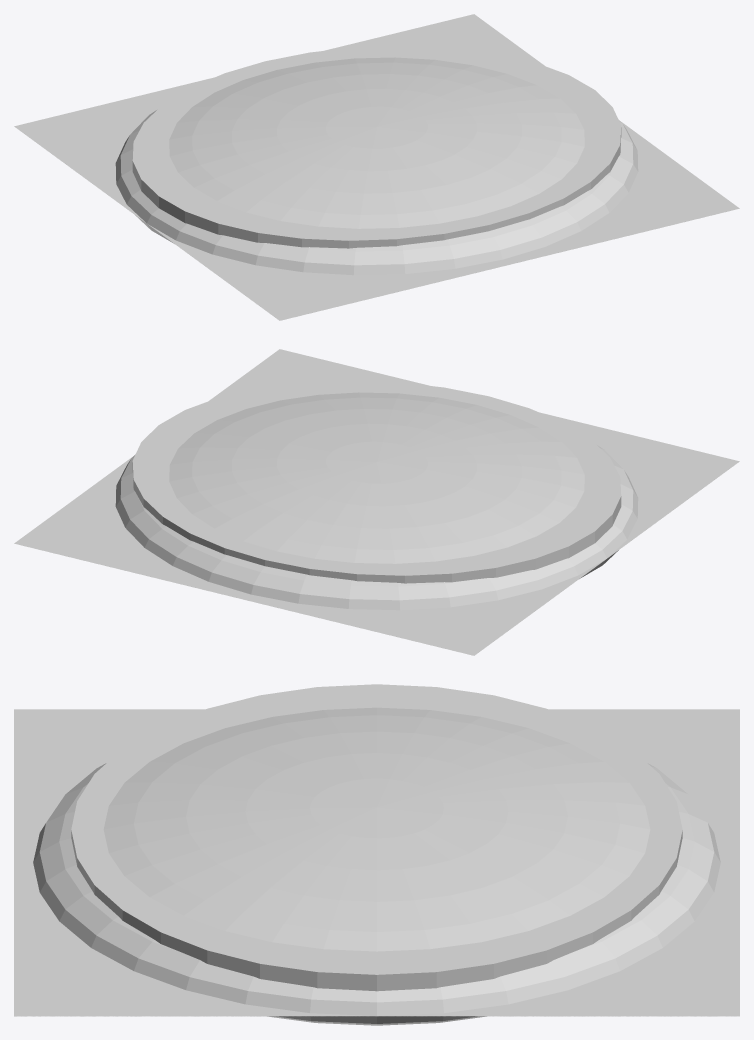
File: twoObjectForestControl_1cm4cmCone_08cm3cmCyli_6cmGrid_wn10000.dae
The picture shows the model from 3 angles, top to bottom: view 1: azimuth 30°, elevation 25°; view 2: azimuth 150°, elevation 25°; view 3: azimuth 270°, elevation 25°; orthographic projection. The views are drawn at different scales.
Visible parts, largest first — view 1: Sphere, _Plane_p_, _cylinder_pic_; view 2: Sphere, _Plane_p_, _cylinder_pic_; view 3: Sphere, _Plane_p_, _cylinder_pic_, Plane.
Part boxes in pixels (x1,y1,x2,y2): Sphere: [115, 57, 638, 275]; _Plane_p_: [14, 14, 739, 320]; _cylinder_pic_: [132, 45, 621, 248]; Sphere: [115, 392, 638, 610]; _Plane_p_: [14, 349, 739, 655]; _cylinder_pic_: [132, 380, 621, 583]; Sphere: [33, 707, 720, 1025]; _Plane_p_: [14, 709, 739, 1015]; _cylinder_pic_: [71, 684, 682, 991]; Plane: [14, 1016, 739, 1016].
Size of the model in its own units: 950 by 950 by 160.
2 materials, 1 textured.
